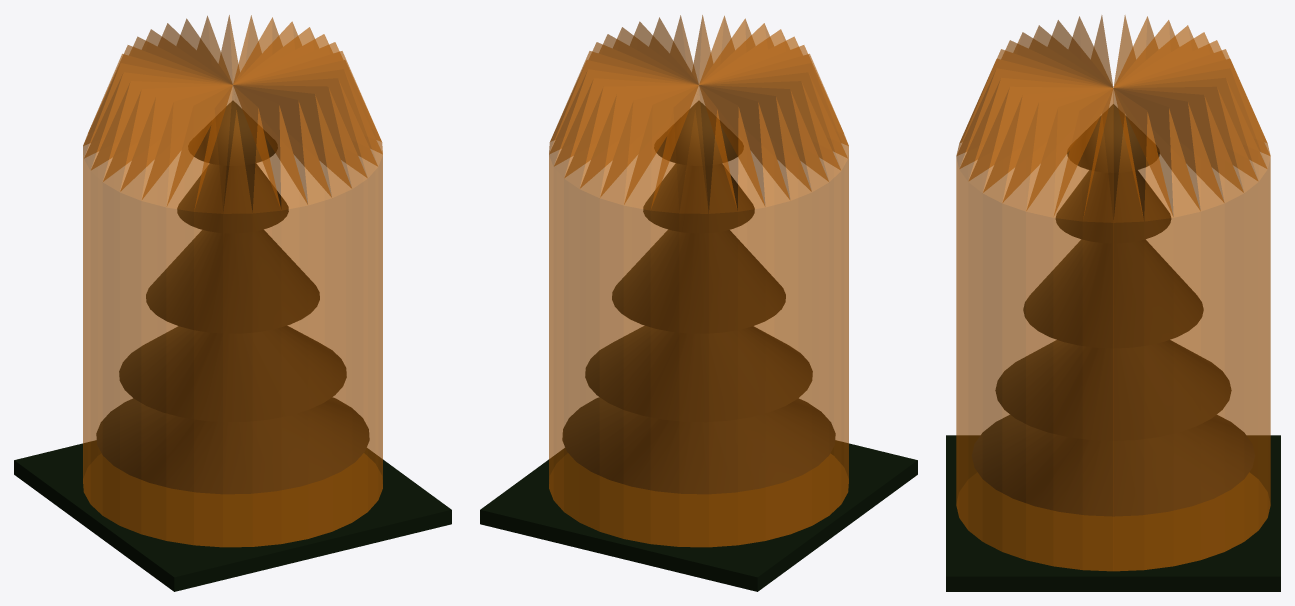
File: burningtree.glb
The picture shows the model from 3 angles, left to right: view 1: azimuth 30°, elevation 25°; view 2: azimuth 150°, elevation 25°; view 3: azimuth 270°, elevation 25°; orthographic projection. The views are drawn at different scales.
Parts seen in each view (by area): view 1: Cylinder.002, Cylinder.001, Cube; view 2: Cylinder.002, Cylinder.001, Cube; view 3: Cylinder.002, Cylinder.001, Cube.
Boxes of the visible parts, x1,y1,x2,y2 form: Cylinder.002: (83, 15, 382, 547); Cylinder.001: (96, 100, 369, 494); Cube: (14, 440, 451, 591); Cylinder.002: (549, 15, 848, 547); Cylinder.001: (562, 100, 835, 494); Cube: (480, 440, 917, 591); Cylinder.002: (956, 15, 1270, 571); Cylinder.001: (972, 104, 1254, 516); Cube: (946, 435, 1280, 591).
Bounding box in the file's own units: 0.05 × 0.0754 × 0.05.
